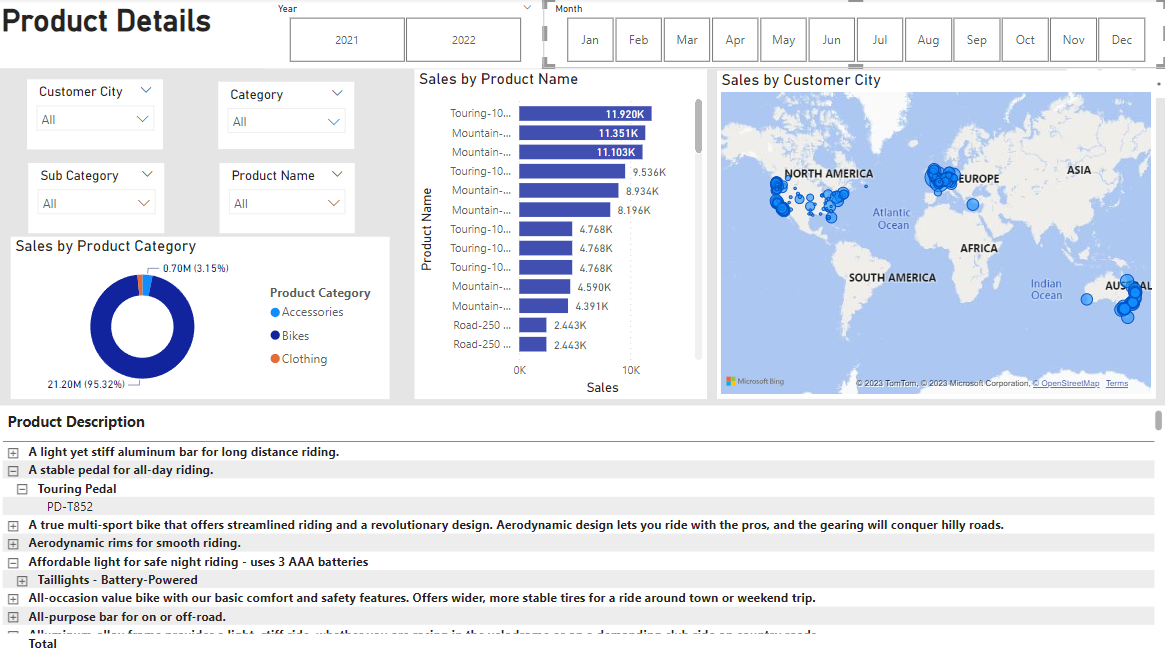

The page's visual inventory and layout, read from the dashboard file:
{"tool":"powerbi","page":{"name":"Product Details","canvas":[1280,720],"ordinal":2},"visuals":[{"type":"textbox","box":[0,0,1279.8,76.6],"z":0},{"type":"slicer","fields":{"Values":["DIM_Customers.Customer City"]},"box":[32.8,88.9,149,76.6],"z":1000},{"type":"slicer","fields":{"Values":["DIM_Products.Sub Category"]},"box":[34.2,180.5,149,76.6],"z":2000},{"type":"slicer","fields":{"Values":["DIM_Products.Product Category"]},"box":[242,91.6,149,73.8],"z":3000},{"type":"slicer","fields":{"Values":["DIM_Products.Product Name"]},"box":[243.4,180.5,147.7,76.6],"z":4000},{"type":"slicer","fields":{"Values":["DIM_Calendar.Year"]},"box":[294,0,303.5,76.6],"z":5000},{"type":"slicer","fields":{"Values":["DIM_Calendar.Month"]},"box":[597.5,0,682.3,76.6],"z":6000},{"type":"barChart","fields":{"Y":["FCT_InternetSales.Sales"],"Category":["DIM_Products.Product Name"]},"box":[456.7,77.9,319.9,361],"z":7000},{"type":"pivotTable","fields":{"Rows":["DIM_Products.Product Description","DIM_Products.Product Name","DIM_Products.Product Item Code"]},"box":[1.4,445.7,1278.4,274.8],"z":8000},{"type":"map","fields":{"Category":["DIM_Customers.Customer City"],"Size":["FCT_InternetSales.Sales"]},"box":[787.6,79.3,479.9,359.6],"z":9000},{"type":"donutChart","fields":{"Series":["DIM_Products.Product Category"],"Y":["FCT_InternetSales.Sales"]},"box":[15,261.2,414.3,177.7],"z":10000}]}

Visuals, with their boxes in screenshot pixels (x1, y1, x2, y2), scaled from the page's 1280x720 canvas onto the 1165x654 screenshot:
textbox: 0, 0, 1164, 70
slicer - DIM_Customers.Customer City: 30, 81, 165, 150
slicer - DIM_Products.Sub Category: 31, 164, 167, 234
slicer - DIM_Products.Product Category: 220, 83, 356, 150
slicer - DIM_Products.Product Name: 222, 164, 356, 234
slicer - DIM_Calendar.Year: 268, 0, 544, 70
slicer - DIM_Calendar.Month: 544, 0, 1164, 70
barChart - FCT_InternetSales.Sales x DIM_Products.Product Name: 416, 71, 707, 399
pivotTable - DIM_Products.Product Description x DIM_Products.Product Name: 1, 405, 1164, 653
map - DIM_Customers.Customer City x FCT_InternetSales.Sales: 717, 72, 1154, 399
donutChart - DIM_Products.Product Category x FCT_InternetSales.Sales: 14, 237, 391, 399
